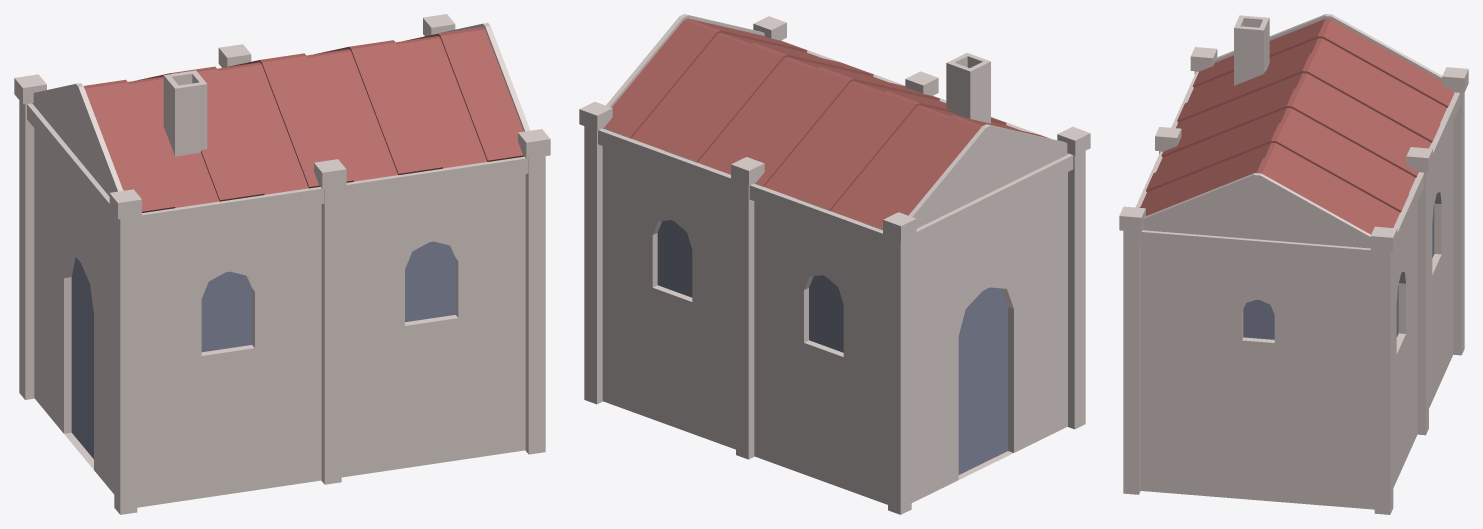
The model's file is building_3.glb.
The picture shows the model from 3 angles, left to right: view 1: azimuth 30°, elevation 25°; view 2: azimuth 150°, elevation 25°; view 3: azimuth 270°, elevation 25°; orthographic projection. The views are drawn at different scales.
Parts seen in each view (by area): view 1: Cube.1082; view 2: Cube.1082; view 3: Cube.1082.
Boxes of the visible parts, x1,y1,x2,y2 form: Cube.1082: (14,14,550,514); Cube.1082: (579,14,1090,514); Cube.1082: (1119,14,1468,514).
Bounding box in the file's own units: 0.1315 × 0.1111 × 0.1017.
